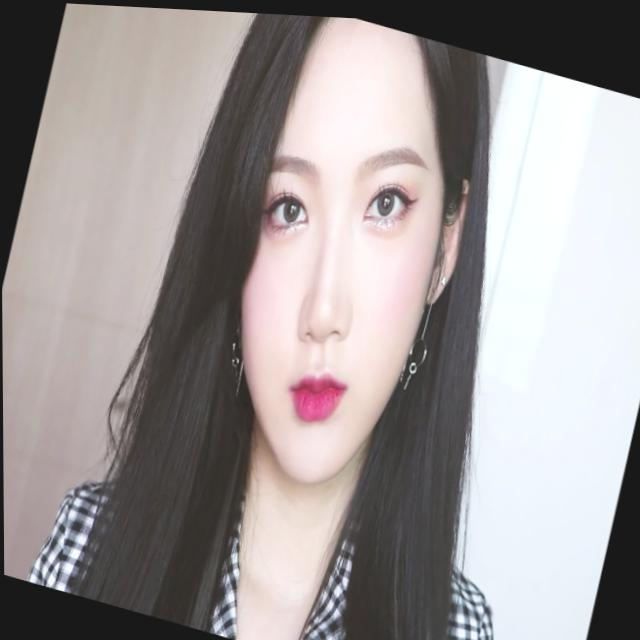face: (178, 7, 497, 506)
